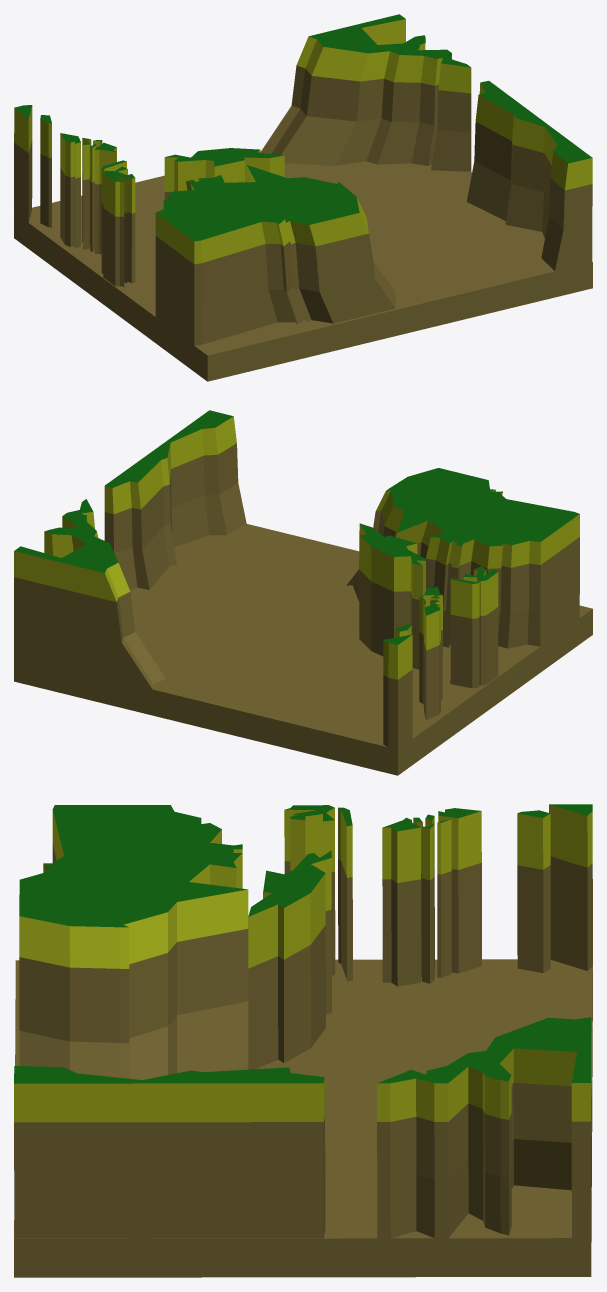
The model's file is WaterCube.FBX.
3 views of the same model, one above another, from view 1: azimuth 30°, elevation 25°; view 2: azimuth 150°, elevation 25°; view 3: azimuth 270°, elevation 25° (orthographic). The views are drawn at different scales.
Parts seen in each view (by area): view 1: Land; view 2: Land; view 3: Land.
Part boxes in pixels (x1,y1,x2,y2): Land: [14, 14, 592, 381]; Land: [14, 410, 592, 775]; Land: [14, 804, 592, 1277].
Bounding box in the file's own units: 3.09 × 1.01 × 2.71.
